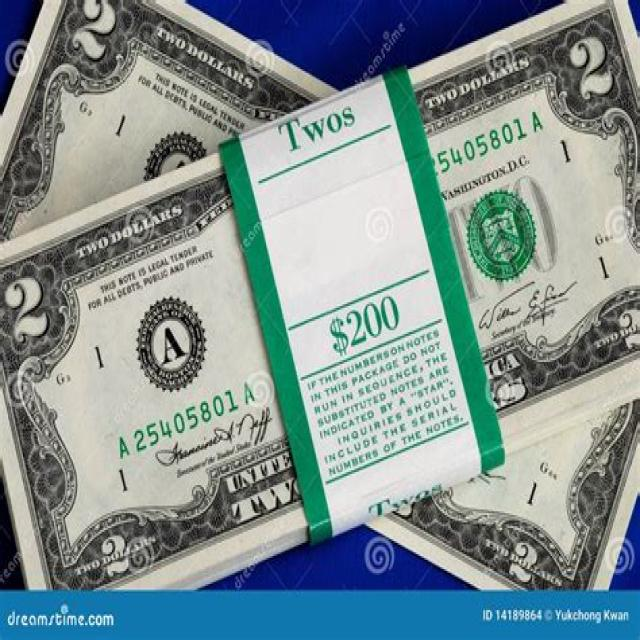Two: (0, 0, 640, 589)
